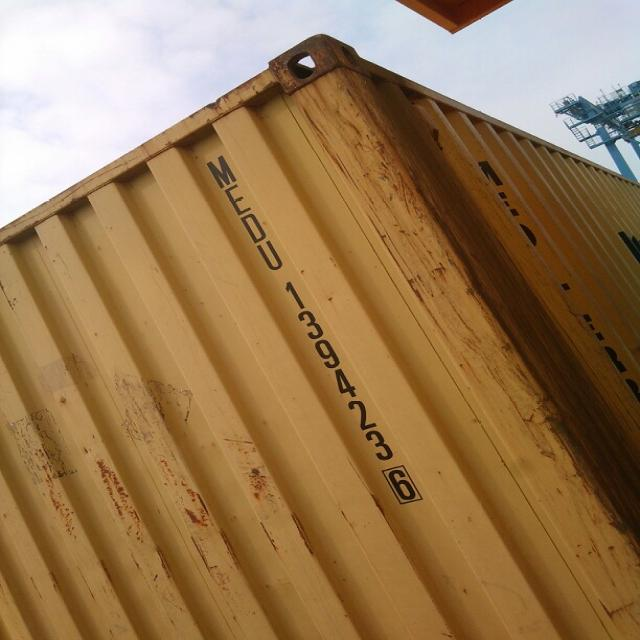rust: (394, 178, 564, 420), (270, 28, 370, 104), (174, 480, 243, 586), (38, 429, 89, 544), (94, 458, 153, 545), (263, 512, 324, 565), (247, 467, 278, 508)
